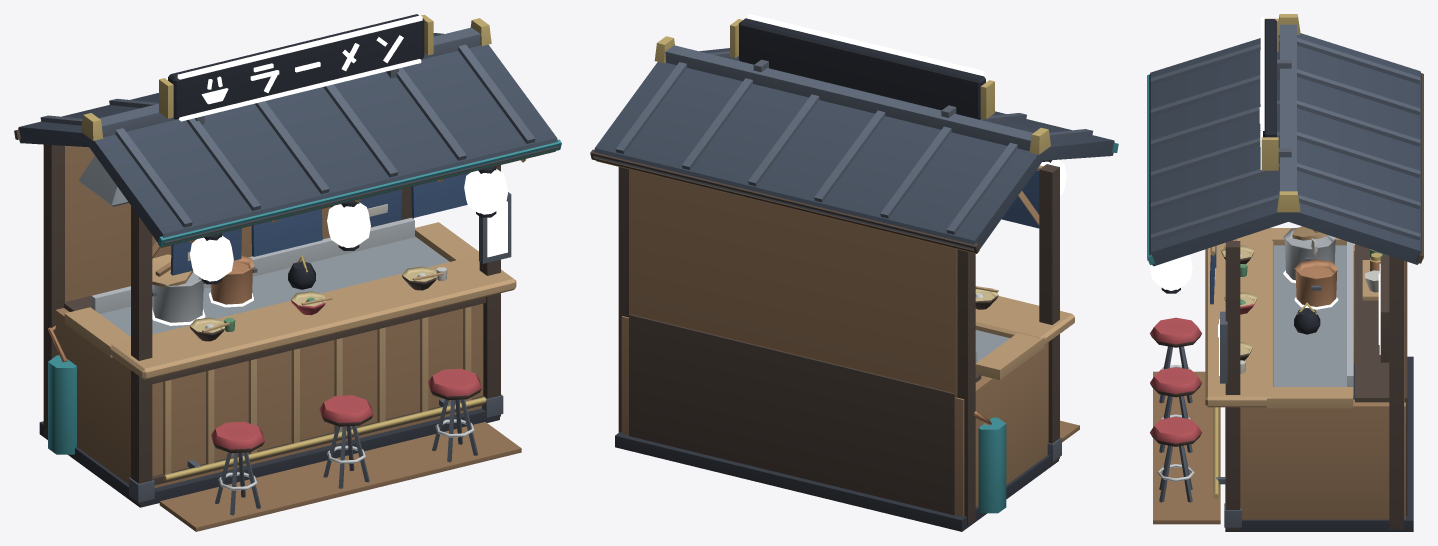
Rendered from noodle-stall.glb.
3 views of the same model, side by side, from view 1: azimuth 30°, elevation 25°; view 2: azimuth 150°, elevation 25°; view 3: azimuth 270°, elevation 25° (orthographic). The views are drawn at different scales.
Visible parts, largest first — view 1: Body, Signal; view 2: Body, Signal; view 3: Body, Signal.
Part boxes in pixels (x1=…): Body: x1=14, y1=14, x2=561, y2=531; Signal: x1=152, y1=15, x2=507, y2=325; Body: x1=590, y1=18, x2=1118, y2=531; Signal: x1=748, y1=14, x2=1066, y2=195; Body: x1=1147, y1=14, x2=1423, y2=531; Signal: x1=1150, y1=17, x2=1380, y2=375.
Bounding box in the file's own units: 2.8 × 2.7 × 1.8.
